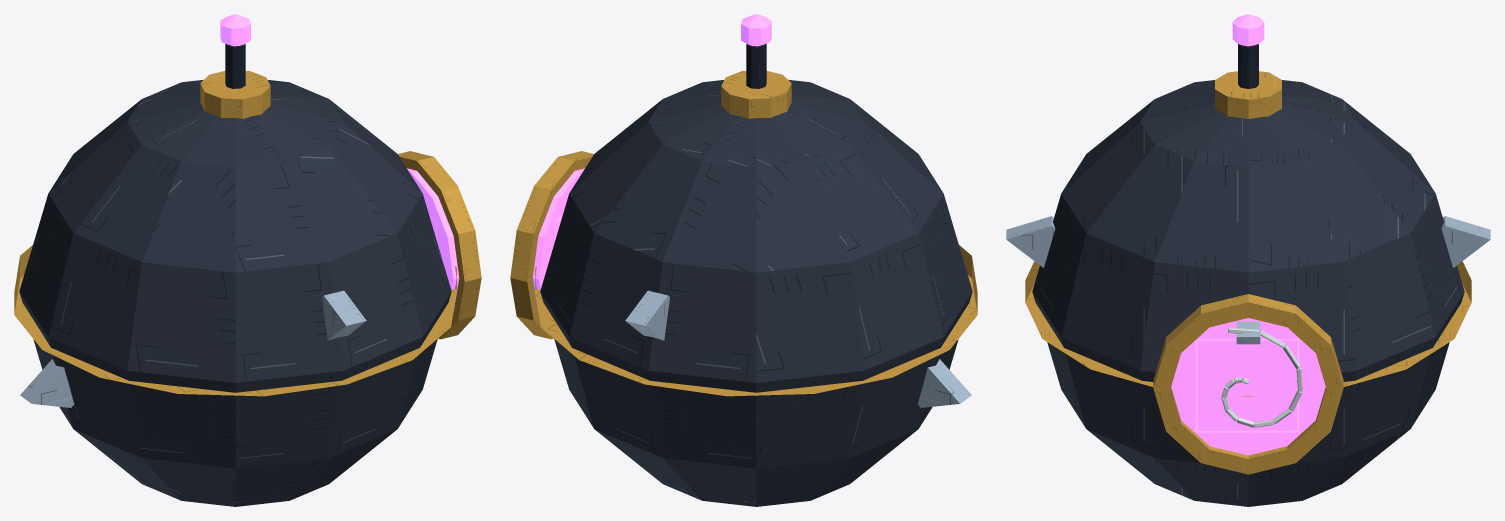
The model's file is vortex.glb.
3 renders of one model, left to right at view 1: azimuth 30°, elevation 25°; view 2: azimuth 150°, elevation 25°; view 3: azimuth 270°, elevation 25°, orthographic.
Visible parts, largest first — view 1: body, fuse; view 2: body, fuse; view 3: body, fuse.
Part boxes in pixels (box(x1,y1,x2,y2)): body: box(14, 71, 481, 506); fuse: box(220, 14, 250, 88); body: box(510, 71, 977, 506); fuse: box(741, 14, 771, 88); body: box(1006, 71, 1490, 506); fuse: box(1232, 14, 1264, 88).
Size of the model in its own units: 0.3696 by 0.3987 by 0.3696.
6 materials, 6 textured.
